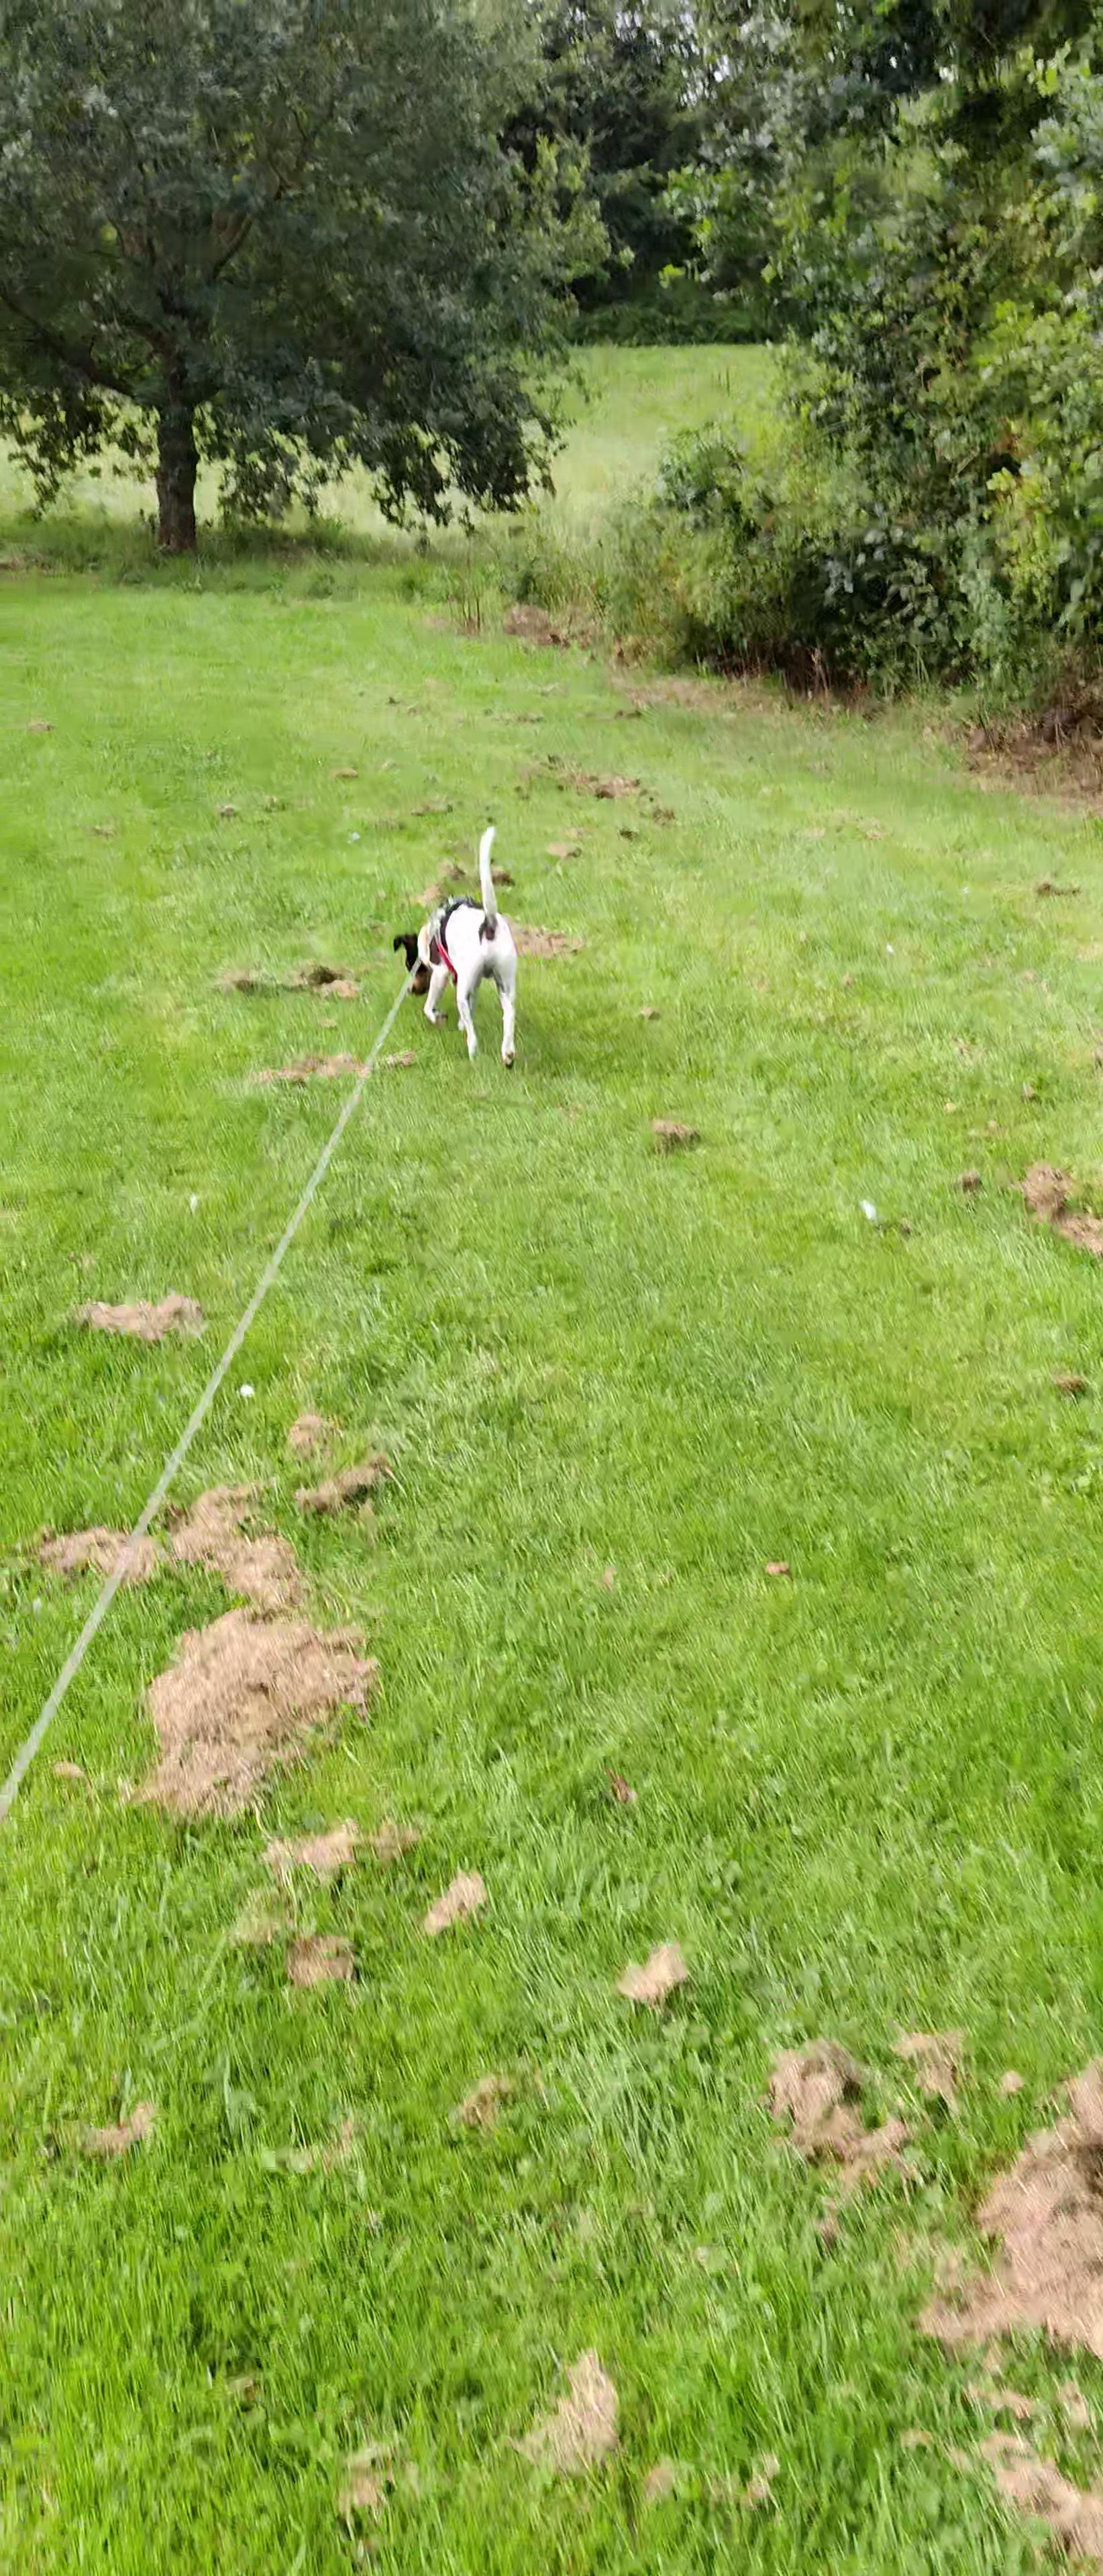Dog: (378, 815, 529, 1074)
